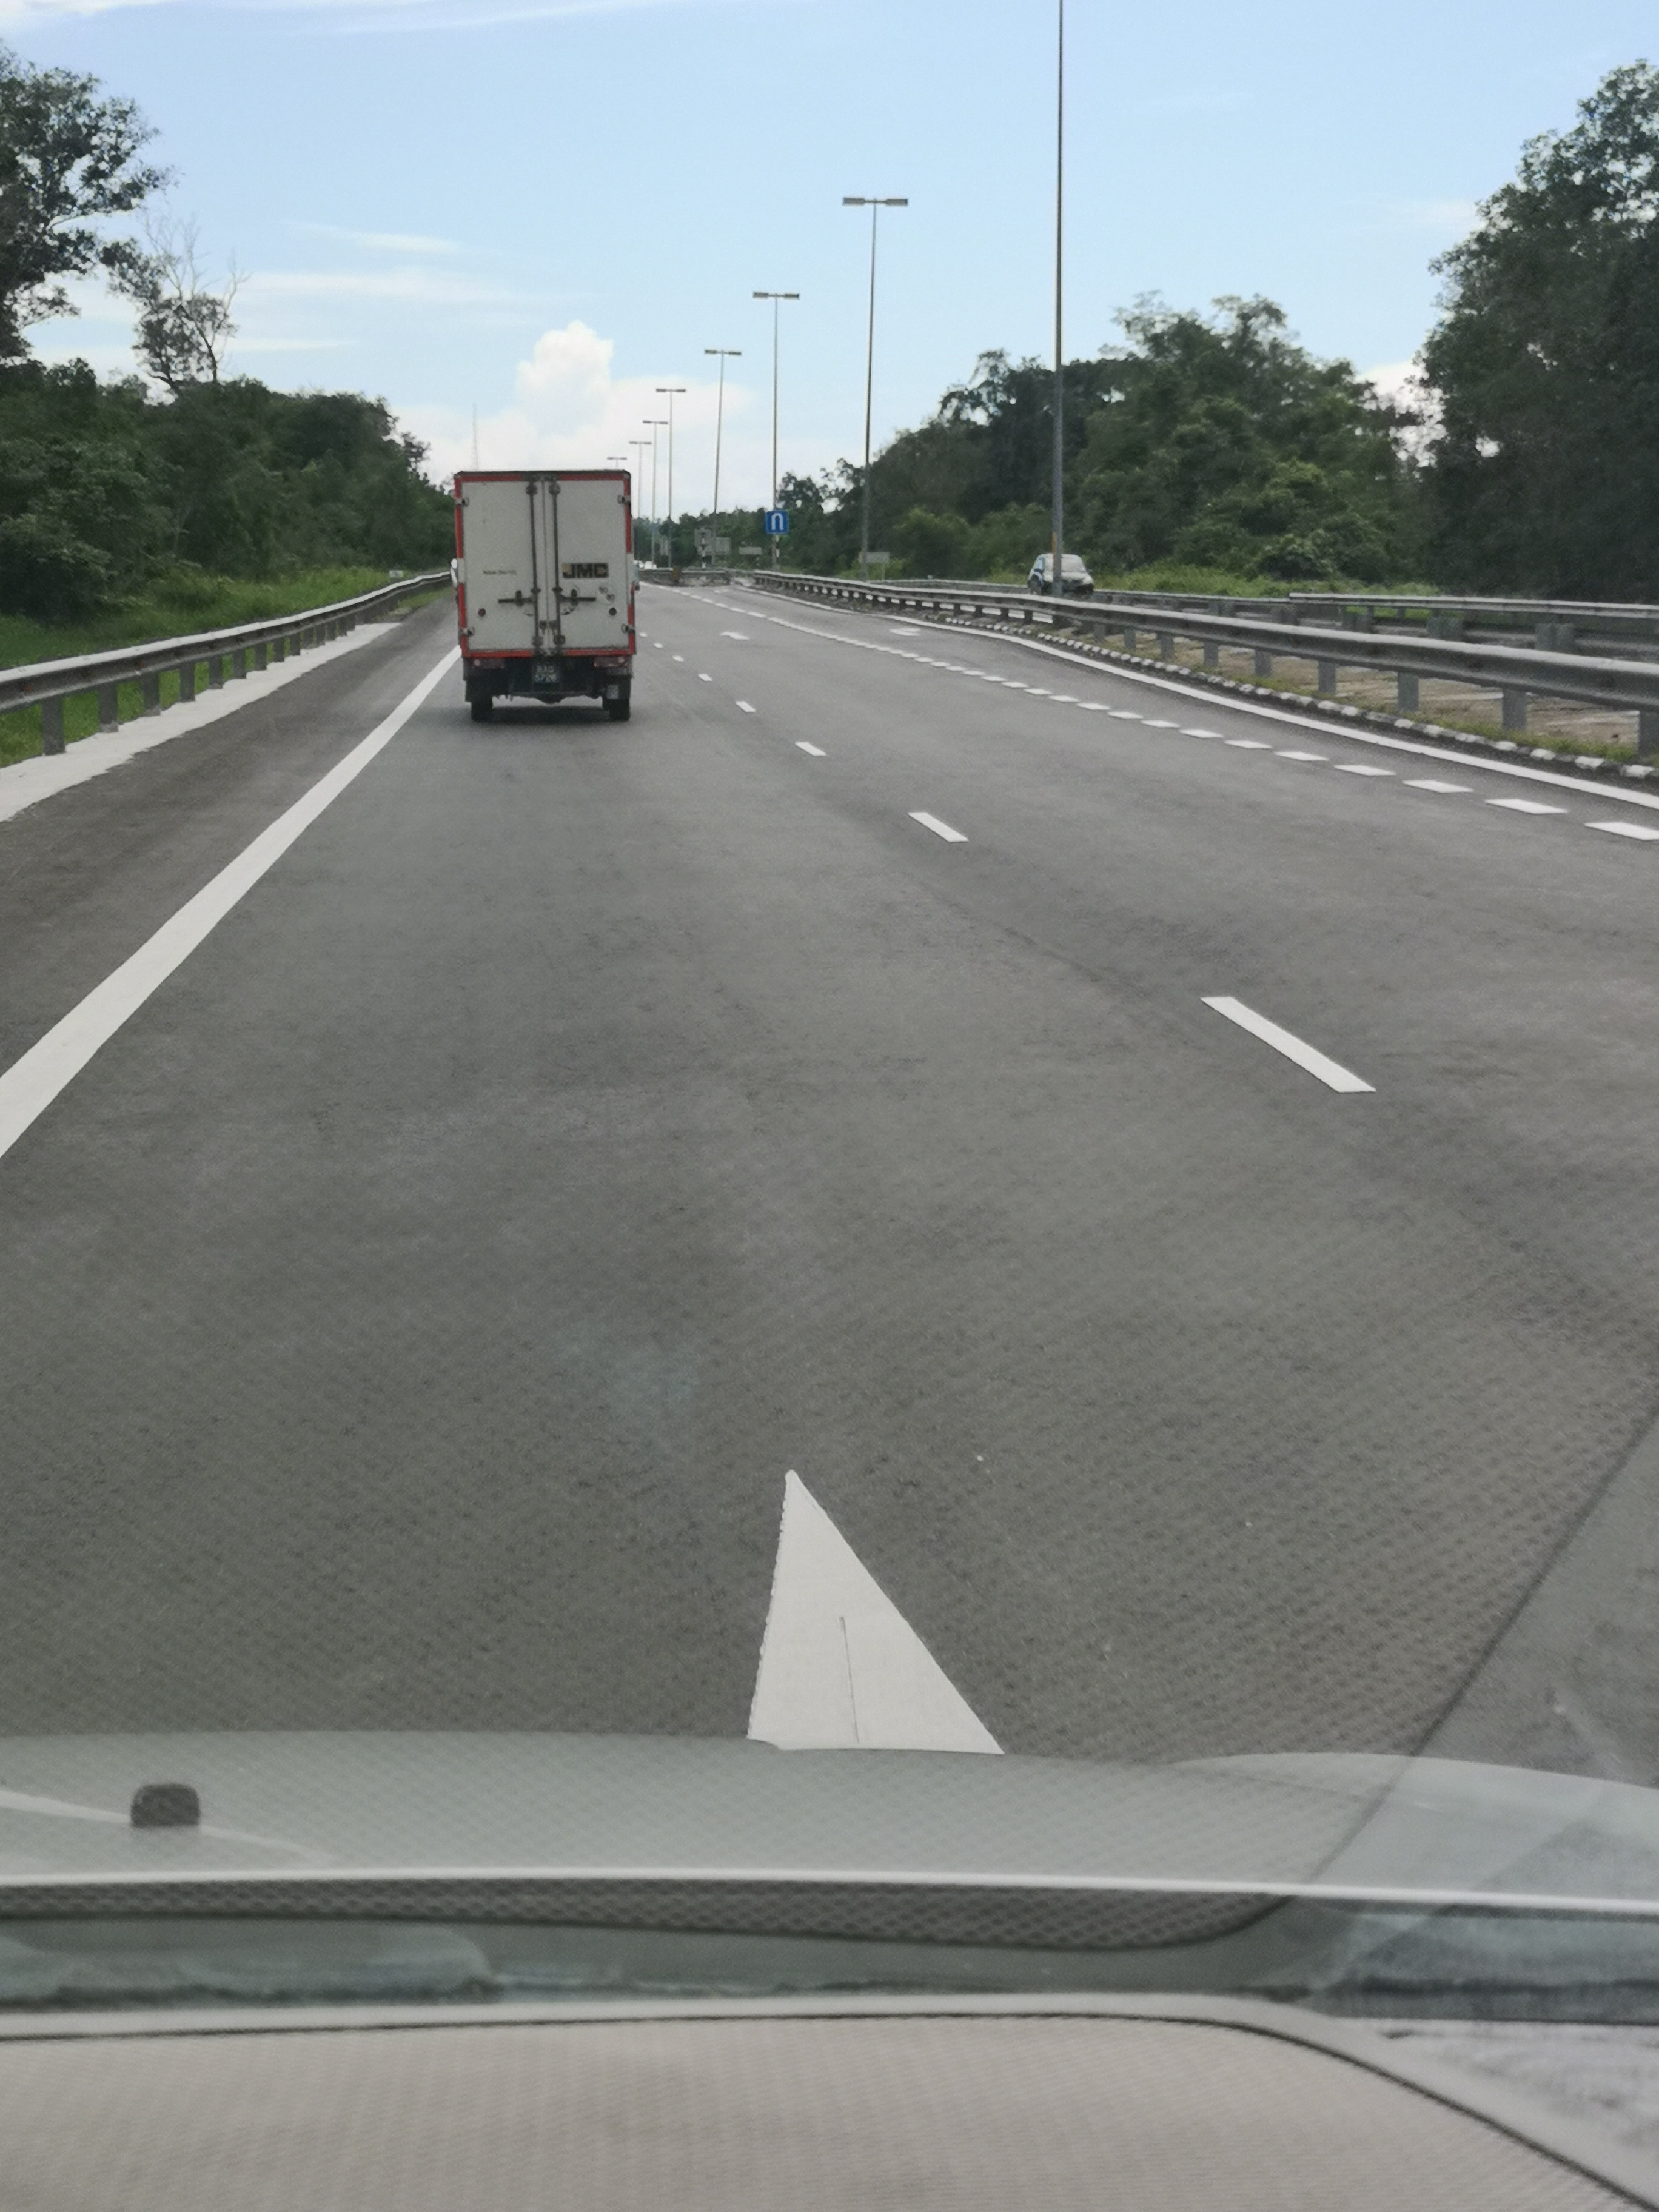U-turn: (765, 509, 791, 535)
